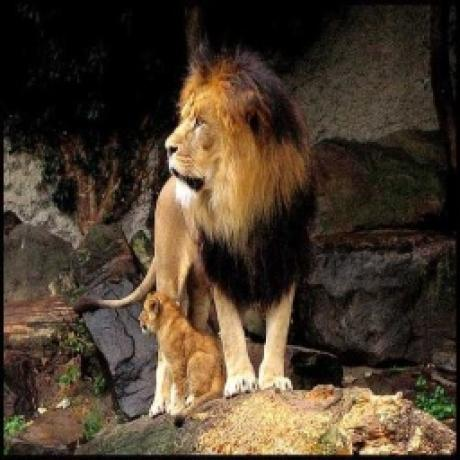Lion: (70, 49, 318, 398), (137, 291, 224, 413)
